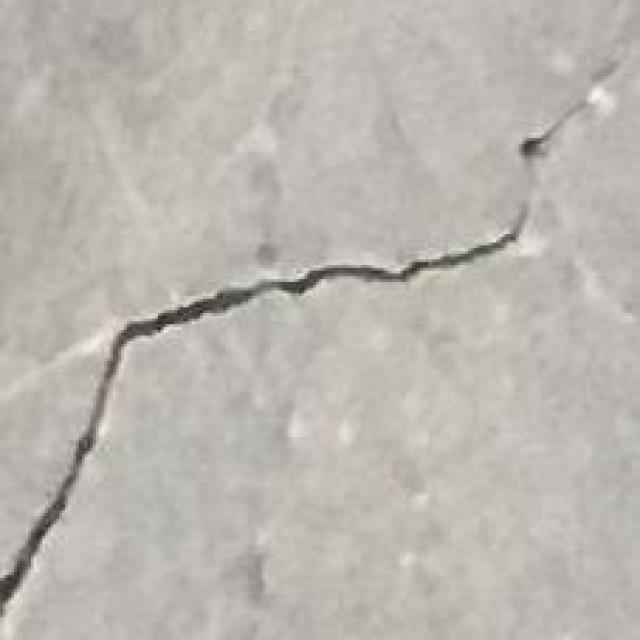Crack: (0, 29, 639, 638)
